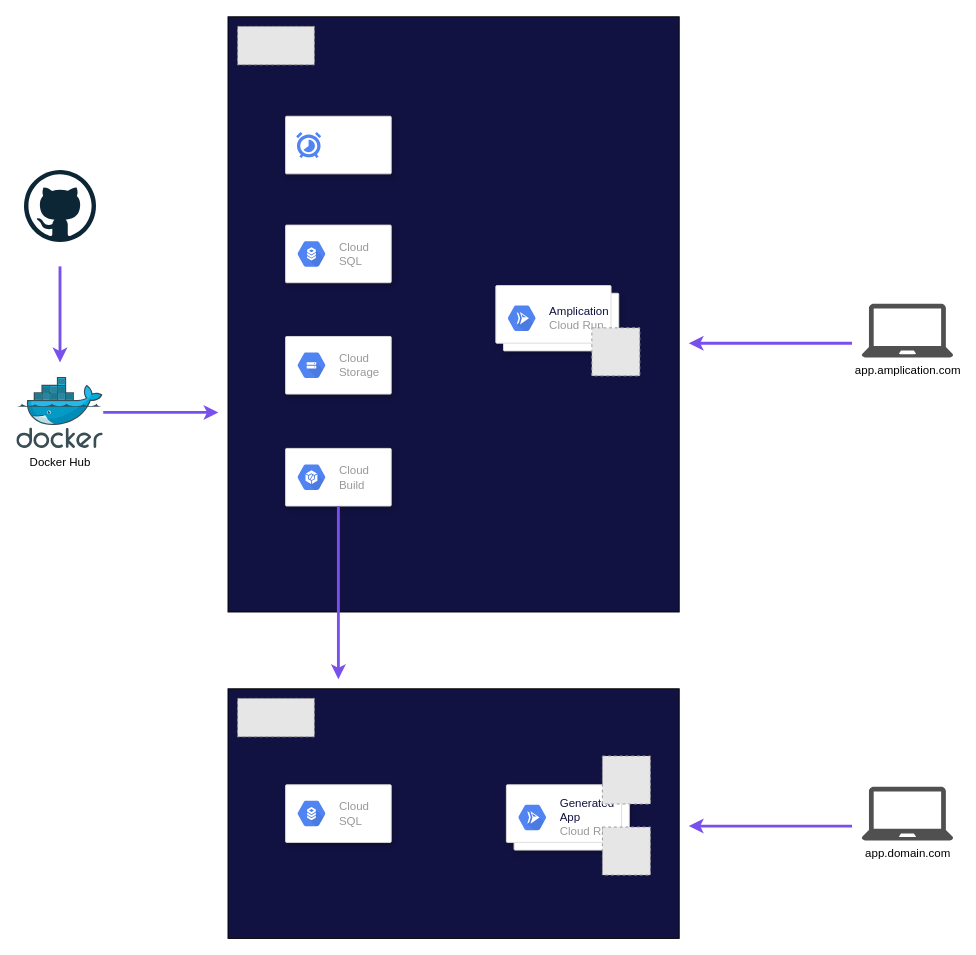
Some shapes in this 976 by 955 pixel diagram are drawn without their labels. Grey dashed boxes stand in for pictures. The centre of each missing label's shape, as x and y in pixels:
"Cloud Scheduler" goes at pixel 308 145.
"GitHub Actions" goes at pixel 59 205.
